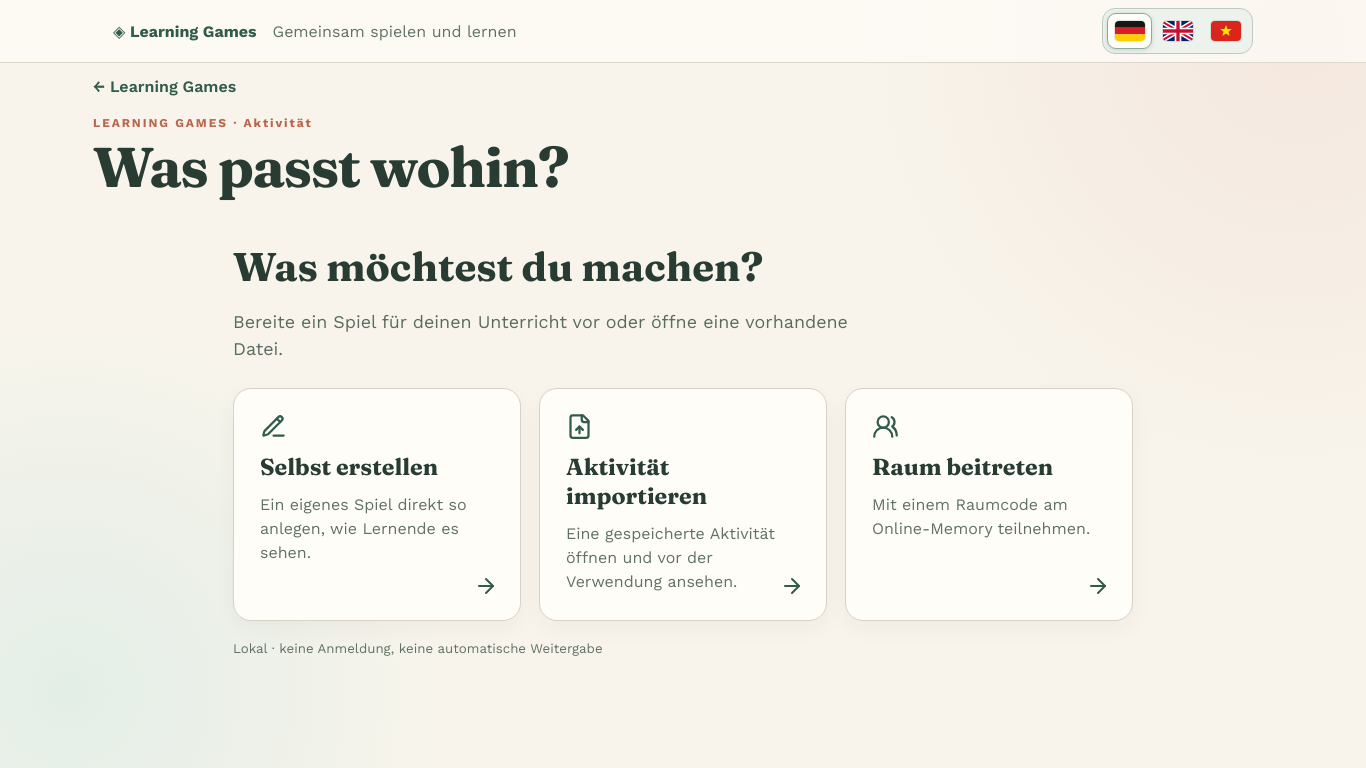
Test: Canvas editor, status and local file ownership › starts a new activity as "Neue Aktivität" until something is edited
Click the button "Selbst erstellen".
click(377, 505)  # box [233,388,521,622]
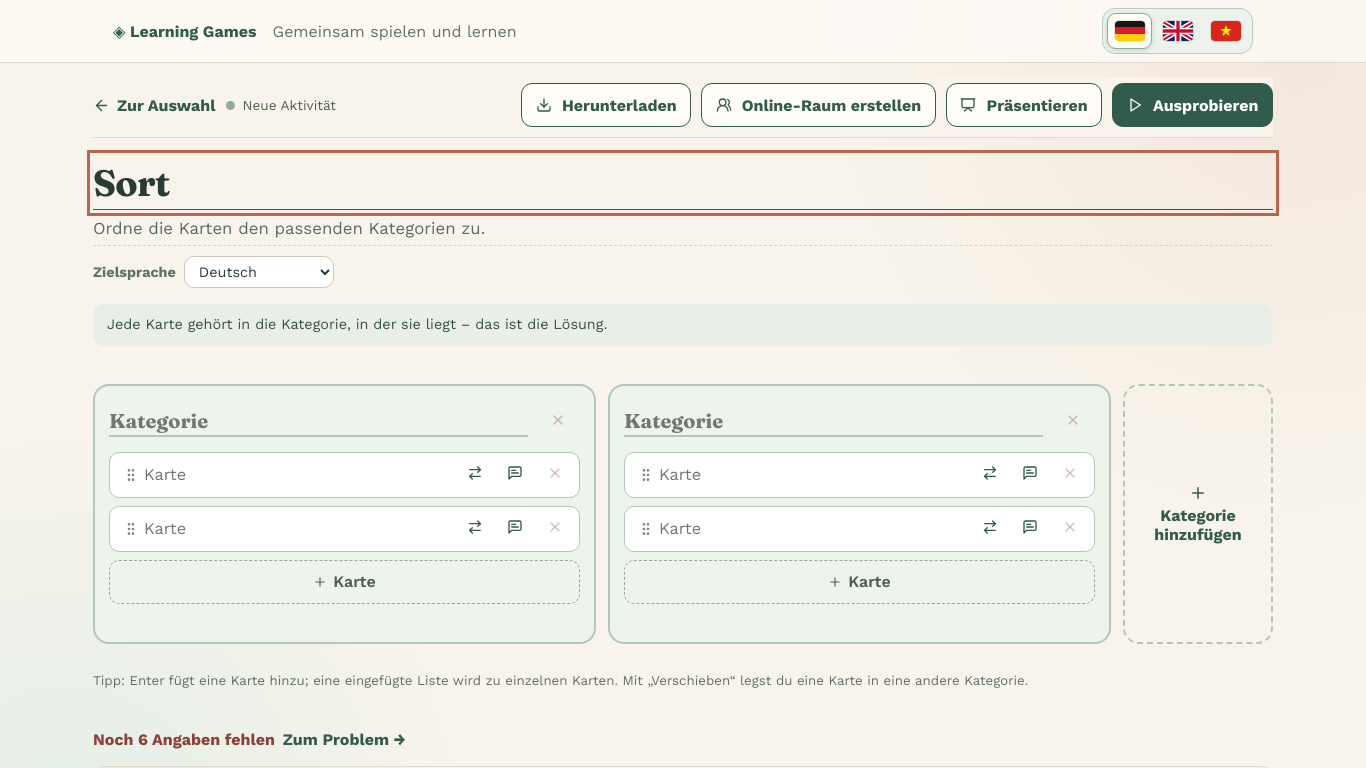
Expected: the message with class "save-chip" reads "Neue Aktivität", [242,97,336,113]
Type "x" into the field named "Titel".
click(683, 183); type("x")  # box [93,156,1273,210]
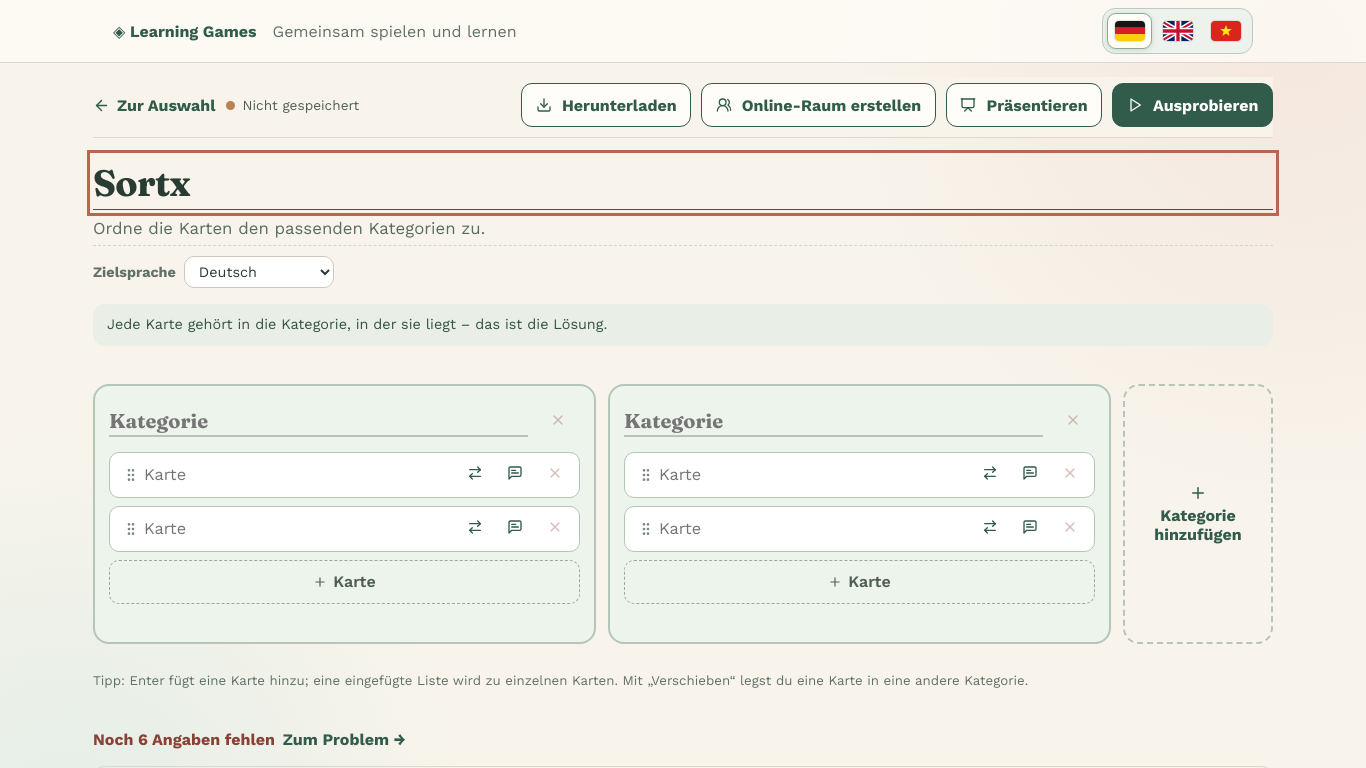
Expected: the message "Nicht gespeichert" is shown, [226,97,359,113]
